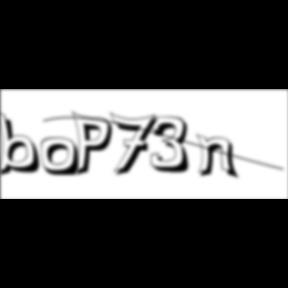3: (150, 116, 196, 176)
7: (110, 111, 164, 179)
P: (72, 110, 118, 180)
b: (0, 109, 48, 179)
n: (196, 132, 242, 181)
o: (40, 137, 82, 179)
